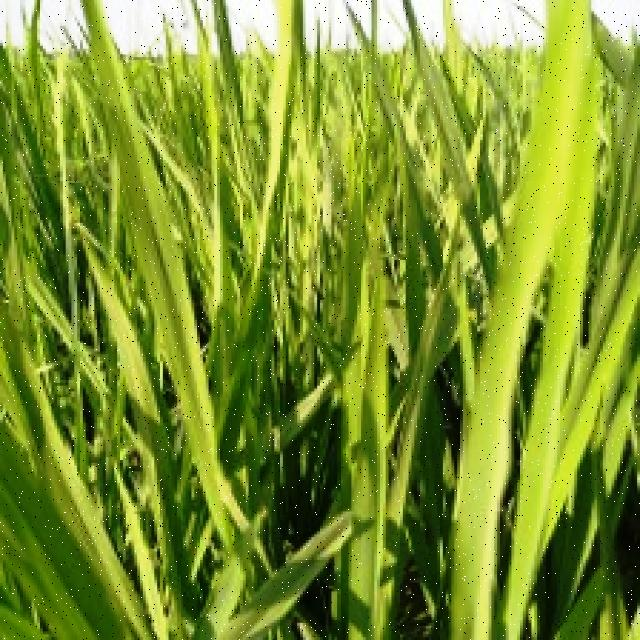health: (43, 83, 640, 637)
